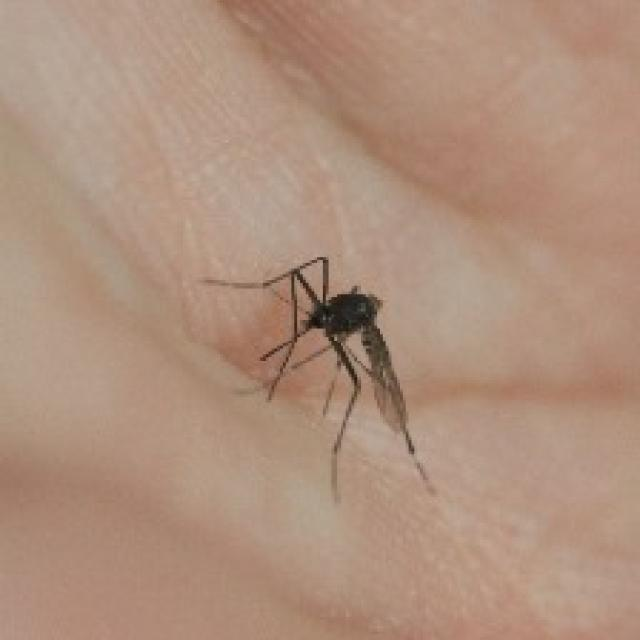aedes: (200, 251, 437, 503)
